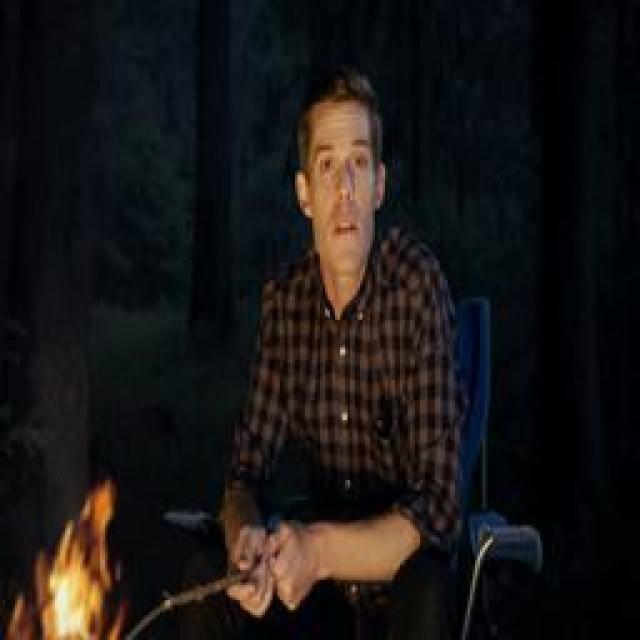Fire: (5, 482, 123, 640)
